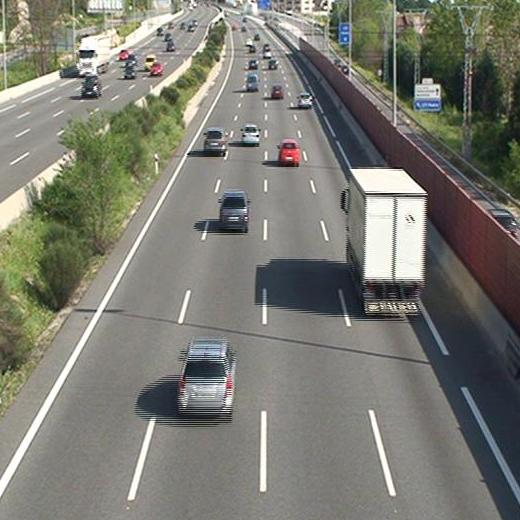car: (177, 340, 236, 414), (219, 192, 249, 230), (279, 140, 300, 164), (205, 129, 226, 151), (242, 125, 259, 143), (297, 93, 311, 107), (271, 85, 284, 99), (247, 58, 258, 70), (269, 60, 277, 69)
small-truck: (346, 170, 426, 317)
van: (246, 74, 259, 91)
